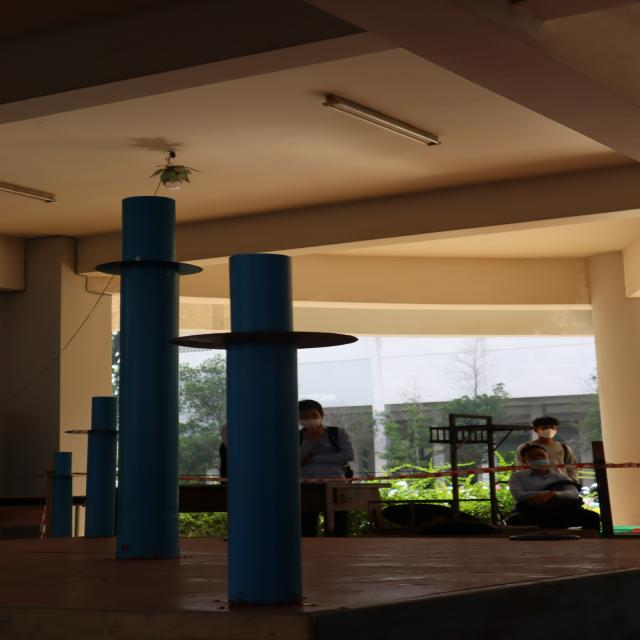pole: (184, 258, 363, 418), (82, 196, 207, 302)
